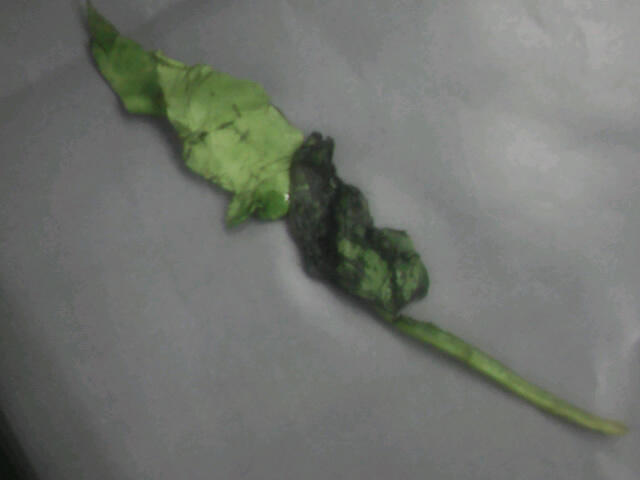yellow: (93, 21, 459, 354)
